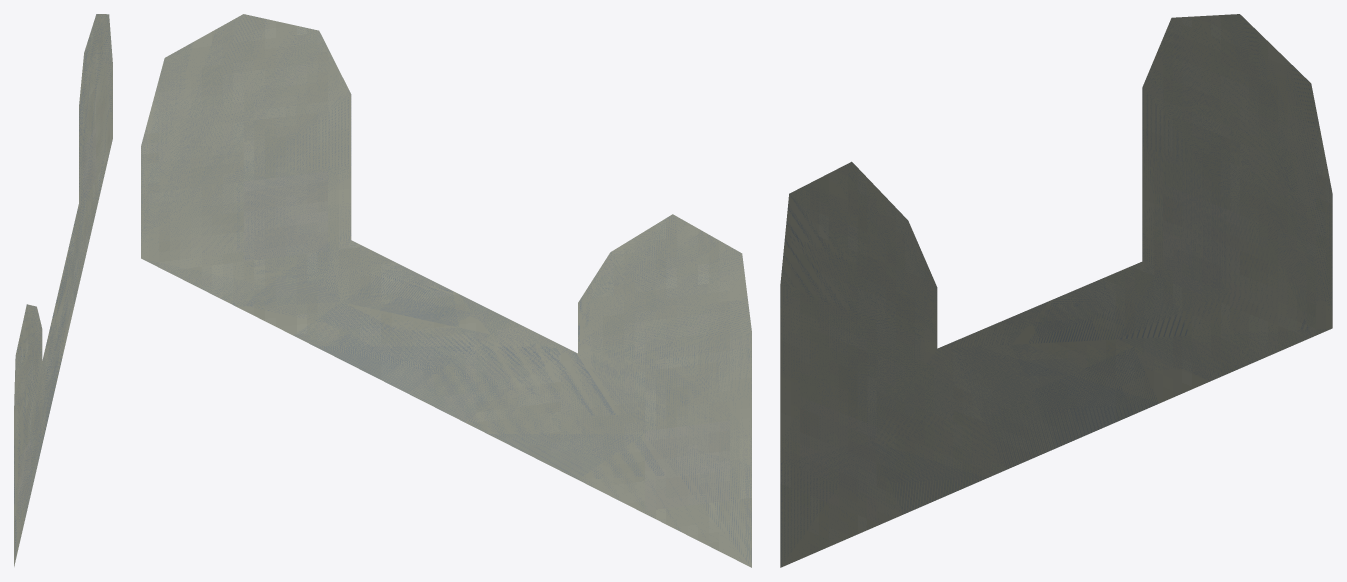
Rendered from 人民英雄纪念碑175.dae.
The picture shows the model from 3 angles, left to right: view 1: azimuth 30°, elevation 25°; view 2: azimuth 150°, elevation 25°; view 3: azimuth 270°, elevation 25°; orthographic projection. The views are drawn at different scales.
Visible parts, largest first — view 1: SketchUp; view 2: SketchUp; view 3: SketchUp.
Part boxes in pixels (bbox=[...]): SketchUp: bbox=[14, 14, 112, 566]; SketchUp: bbox=[141, 14, 751, 567]; SketchUp: bbox=[780, 14, 1332, 567].
Size of the model in its own units: 82.55 by 86.83 by 128.
Materials: 2 (1 with a texture image).
